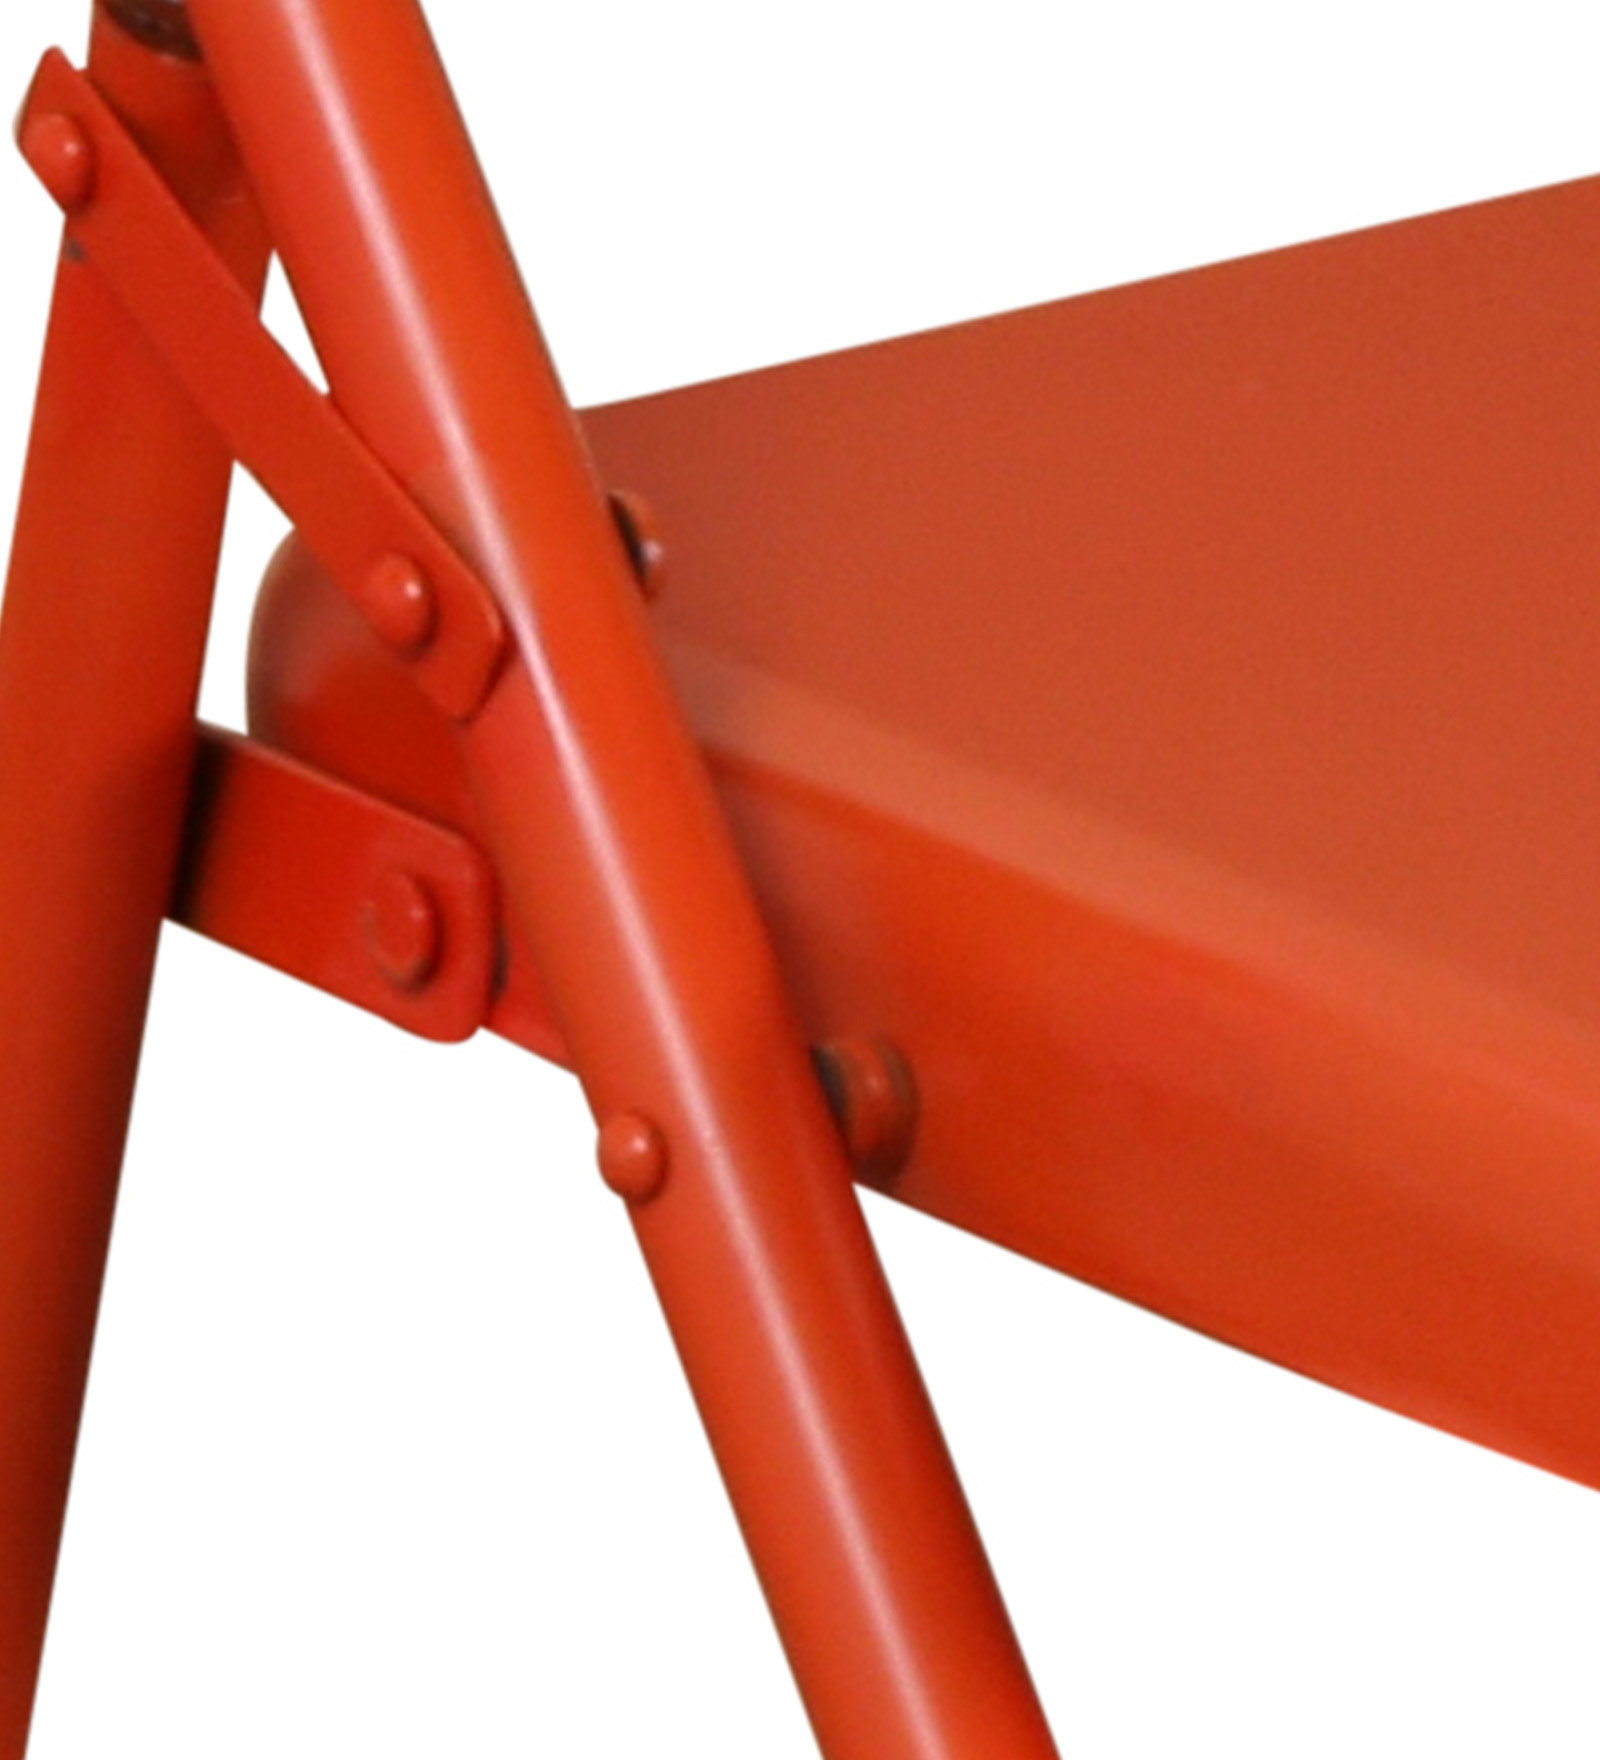Kell Folding Chair in Orange Color by Bohemiana: (6, 8, 1588, 1760)
